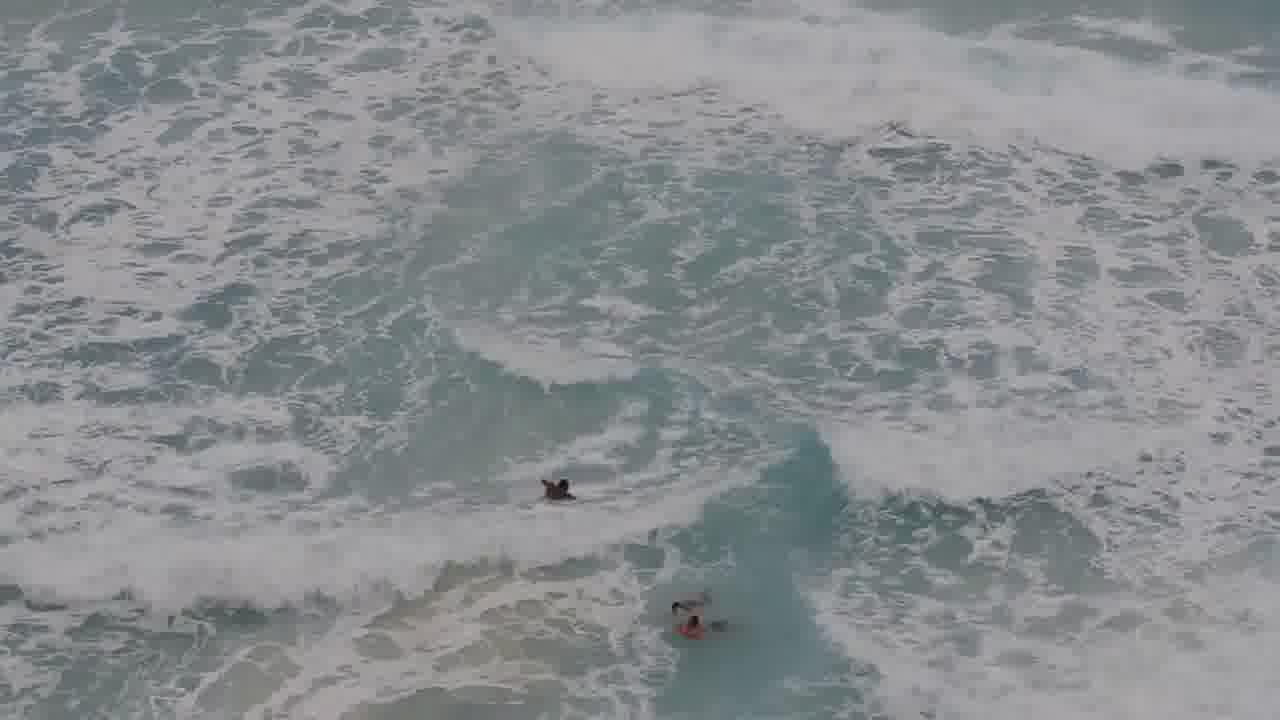human: (656, 586, 717, 619), (528, 472, 585, 503), (668, 615, 721, 646)
